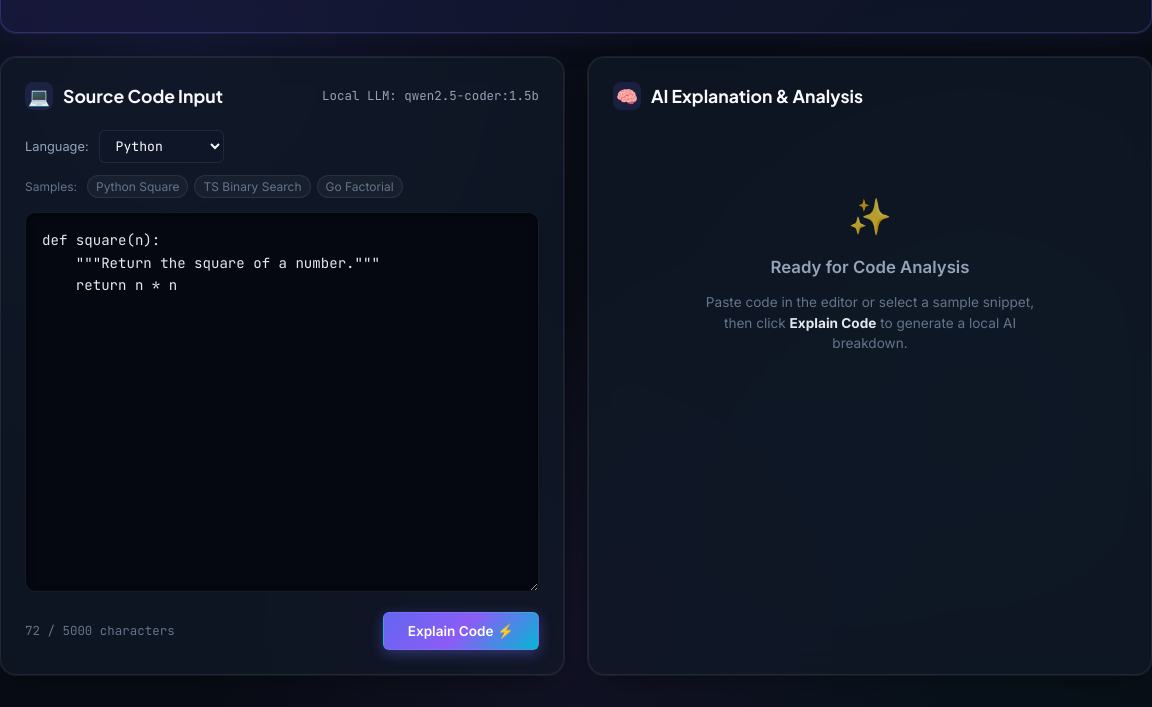
Test: CodeExplainerView Feature Integration › displays loading state during AI model inference
(page scrolled)
Click the button named "Explain Code with AI" at x=461, y=631, box [383,612,539,650]
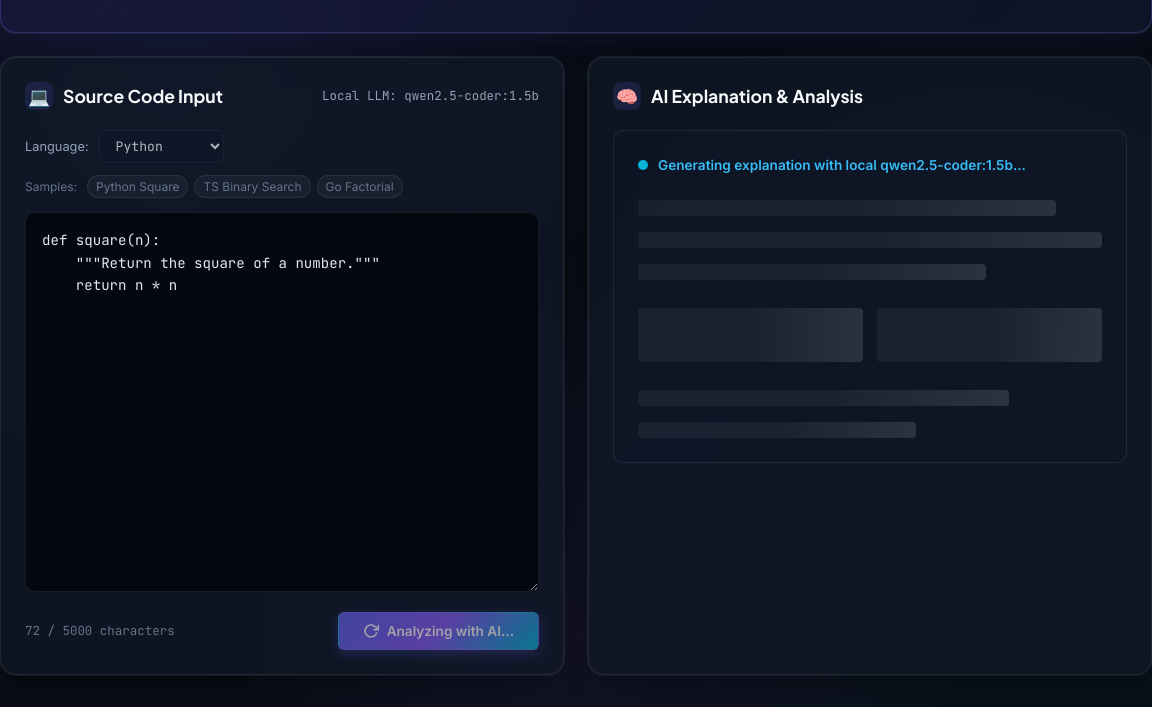
Result: the text "Generating explanation with local qwen2.5-coder:1.5b..." is shown at [658,155,1026,176]
Result: the button named "Explain Code with AI" is disabled at [338,612,539,650]
